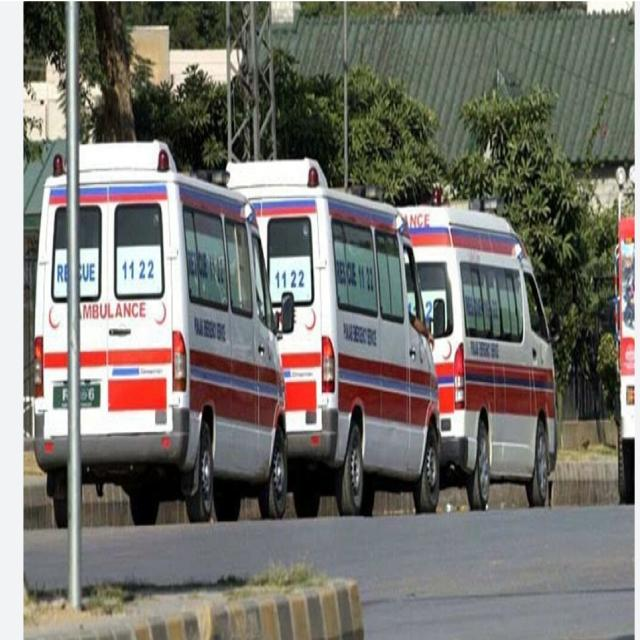ambulance: (219, 205, 576, 493), (36, 165, 269, 474)
